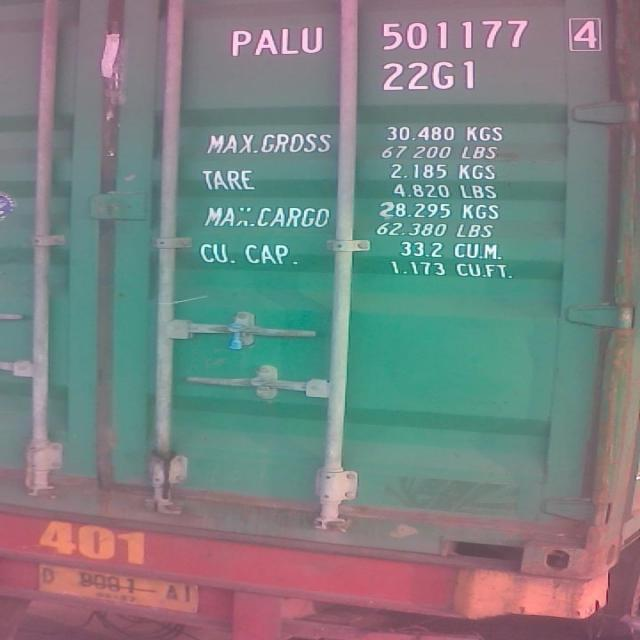seal: (227, 322, 249, 353)
